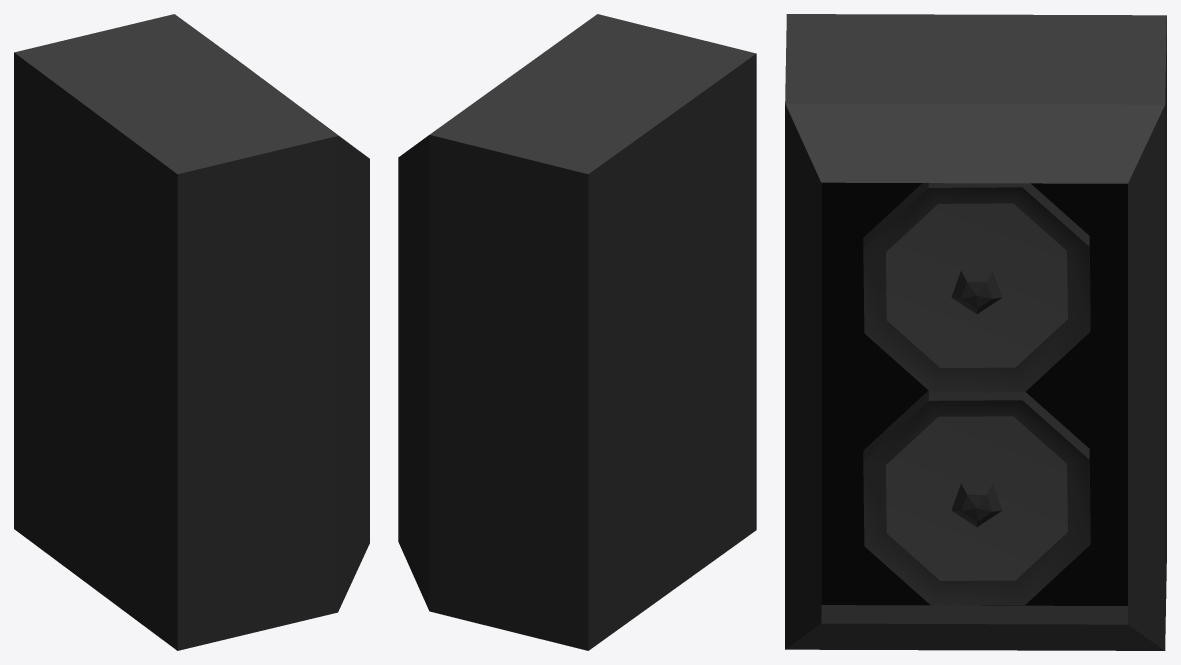
The model's file is obs_med_amp.fbx.
The picture shows the model from 3 angles, left to right: view 1: azimuth 30°, elevation 25°; view 2: azimuth 150°, elevation 25°; view 3: azimuth 270°, elevation 25°; orthographic projection. The views are drawn at different scales.
Parts seen in each view (by area): view 1: polySurface191; view 2: polySurface191; view 3: polySurface191.
Boxes of the visible parts, x1,y1,x2,y2 form: polySurface191: (14,14,369,650); polySurface191: (398,14,756,650); polySurface191: (785,14,1166,650).
Size of the model in its own units: 0.6352 by 1.38 by 0.8757.
